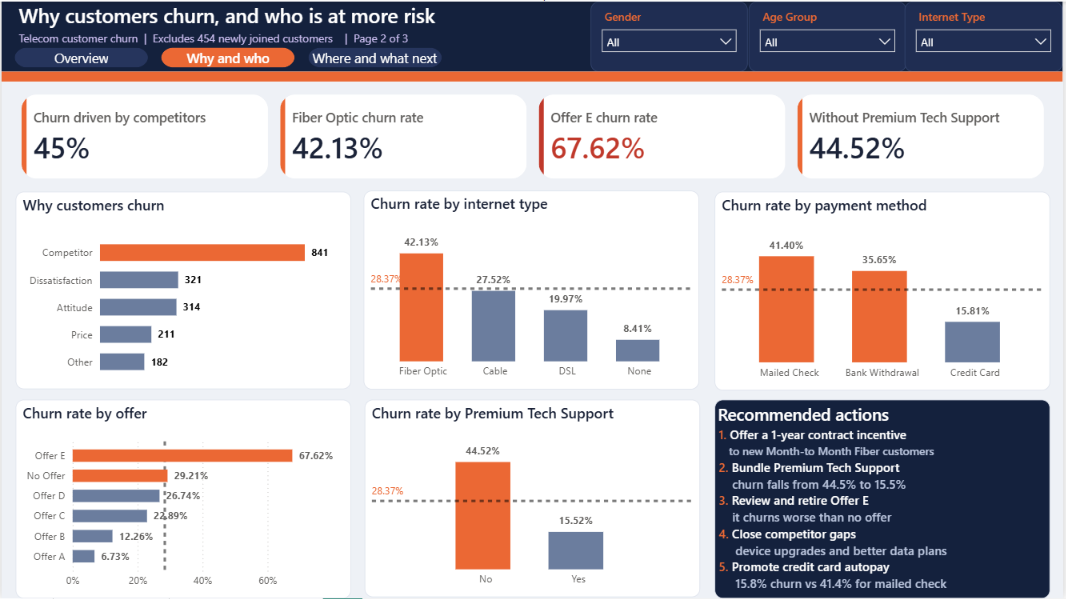

What the dashboard file says about the page in this screenshot:
{"tool":"powerbi","page":{"name":"Why and who","canvas":[1280,720],"ordinal":1},"visuals":[{"type":"textbox","box":[0,0,682,63.1],"z":0},{"type":"shape","box":[0,0,1280,85],"z":1000},{"type":"textbox","title":"Why customers churn,  and who is at more risk","box":[16,0,558.6,55.5],"z":2000},{"type":"slicer","fields":{"Values":["telecom_churn_cleaned.gender"]},"box":[710.6,0,189.4,84.5],"z":3000},{"type":"slicer","fields":{"Values":["telecom_churn_cleaned.age_group"]},"box":[901.2,0,190.6,84.5],"z":4000},{"type":"slicer","fields":{"Values":["telecom_churn_cleaned.internet_type"]},"box":[1089.4,0,190.6,84.5],"z":5000},{"type":"shape","box":[0,84.5,1280,12.1],"z":6000},{"type":"pageNavigator","box":[15.7,55.5,516.4,24.1],"z":7000},{"type":"clusteredBarChart","title":"Why customers churn","fields":{"Category":["telecom_churn_cleaned.churn_category"],"Y":["CountNonNull(telecom_churn_cleaned.customer_id)"]},"box":[16.5,229.2,404.8,238.8],"z":8000},{"type":"clusteredColumnChart","title":"Churn rate by internet type","fields":{"Category":["telecom_churn_cleaned.internet_type"],"Y":["telecom_churn_cleaned.Churn Rate"]},"box":[437.2,228.6,405,240],"z":9000},{"type":"clusteredColumnChart","title":"Churn rate by payment method","fields":{"Y":["telecom_churn_cleaned.Churn Rate"],"Category":["telecom_churn_cleaned.payment_method"]},"box":[860.4,229.2,405,240],"z":10000},{"type":"clusteredBarChart","title":"Churn rate by offer","fields":{"Y":["telecom_churn_cleaned.Churn Rate"],"Category":["telecom_churn_cleaned.offer"]},"box":[16.5,480.3,405,240],"z":11000},{"type":"clusteredColumnChart","title":"Churn rate by Premium Tech Support","fields":{"Y":["telecom_churn_cleaned.Churn Rate"],"Category":["telecom_churn_cleaned.premium_tech_support"]},"box":[437.7,480.3,404.8,238.8],"z":12000},{"type":"cardVisual","fields":{"Data":["telecom_churn_cleaned.Churn driven by competitors","telecom_churn_cleaned.Fiber Optic churn rate","telecom_churn_cleaned.Offer E churn rate","telecom_churn_cleaned.Without Premium Tech Support"]},"box":[19.2,107,1244.6,111.1],"z":13000},{"type":"shape","title":"Recommended actions","box":[860,480,405,240],"z":14000},{"type":"textbox","box":[860.4,506.3,404.8,215.4],"z":15000}]}

Visuals, with their boxes in screenshot pixels (x1, y1, x2, y2), scaled from the page's 1280x720 canvas onto the 1066x599 screenshot:
textbox: bbox=(0, 0, 568, 52)
shape: bbox=(0, 0, 1065, 71)
"Why customers churn,  and who is at more risk" textbox: bbox=(13, 0, 479, 46)
slicer - telecom_churn_cleaned.gender: bbox=(592, 0, 750, 70)
slicer - telecom_churn_cleaned.age_group: bbox=(751, 0, 909, 70)
slicer - telecom_churn_cleaned.internet_type: bbox=(907, 0, 1065, 70)
shape: bbox=(0, 70, 1065, 80)
pageNavigator: bbox=(13, 46, 443, 66)
"Why customers churn" clusteredBarChart: bbox=(14, 191, 351, 389)
"Churn rate by internet type" clusteredColumnChart: bbox=(364, 190, 701, 390)
"Churn rate by payment method" clusteredColumnChart: bbox=(717, 191, 1054, 390)
"Churn rate by offer" clusteredBarChart: bbox=(14, 400, 351, 598)
"Churn rate by Premium Tech Support" clusteredColumnChart: bbox=(365, 400, 702, 598)
cardVisual - telecom_churn_cleaned.Churn driven by competitors x telecom_churn_cleaned.Fiber Optic churn rate: bbox=(16, 89, 1053, 181)
"Recommended actions" shape: bbox=(716, 399, 1054, 598)
textbox: bbox=(717, 421, 1054, 598)
